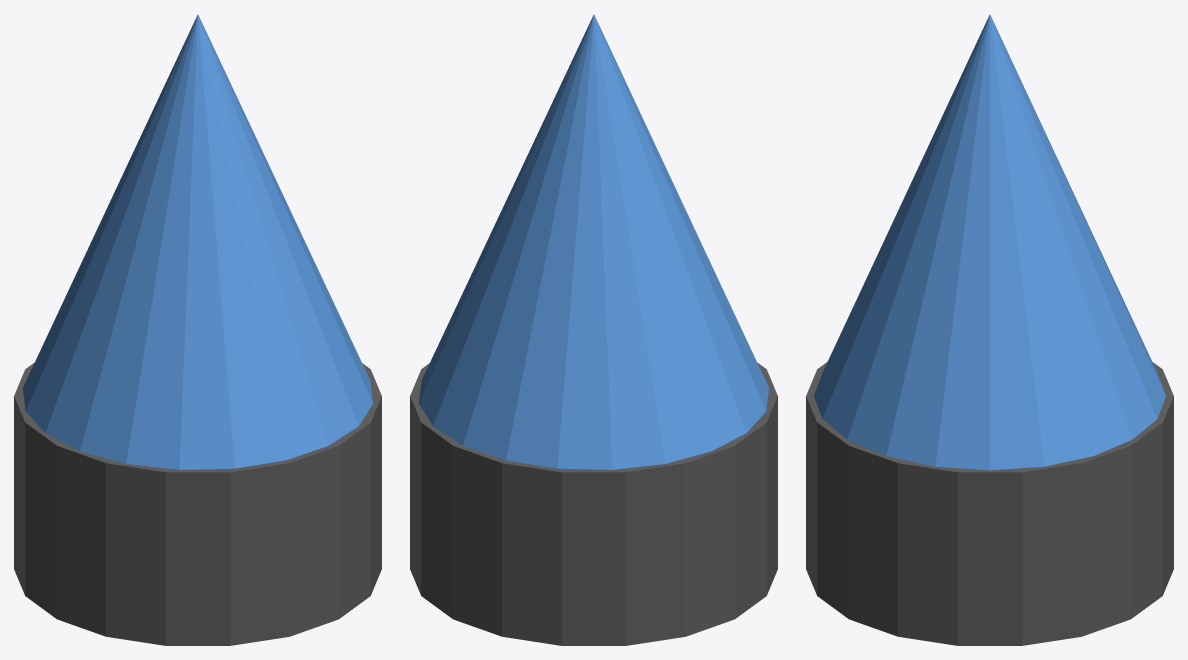
Rendered from tee_marker_blue.glb.
The picture shows the model from 3 angles, left to right: view 1: azimuth 30°, elevation 25°; view 2: azimuth 150°, elevation 25°; view 3: azimuth 270°, elevation 25°; orthographic projection.
Parts seen in each view (by area): view 1: TeeMarkerBlue; view 2: TeeMarkerBlue; view 3: TeeMarkerBlue.
Part boxes in pixels (bbox=[...]): TeeMarkerBlue: bbox=[14, 14, 381, 645]; TeeMarkerBlue: bbox=[410, 14, 777, 645]; TeeMarkerBlue: bbox=[806, 14, 1173, 645].
Bounding box in the file's own units: 0.0945 × 0.16 × 0.096.
